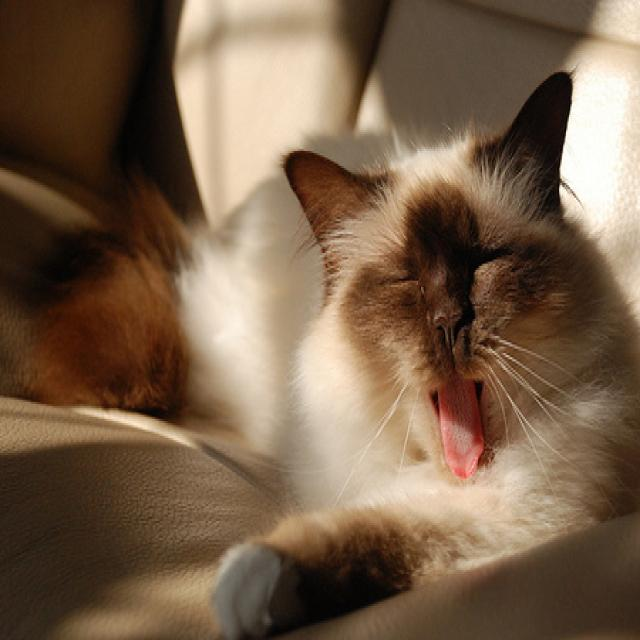Birman: (50, 64, 640, 640)
